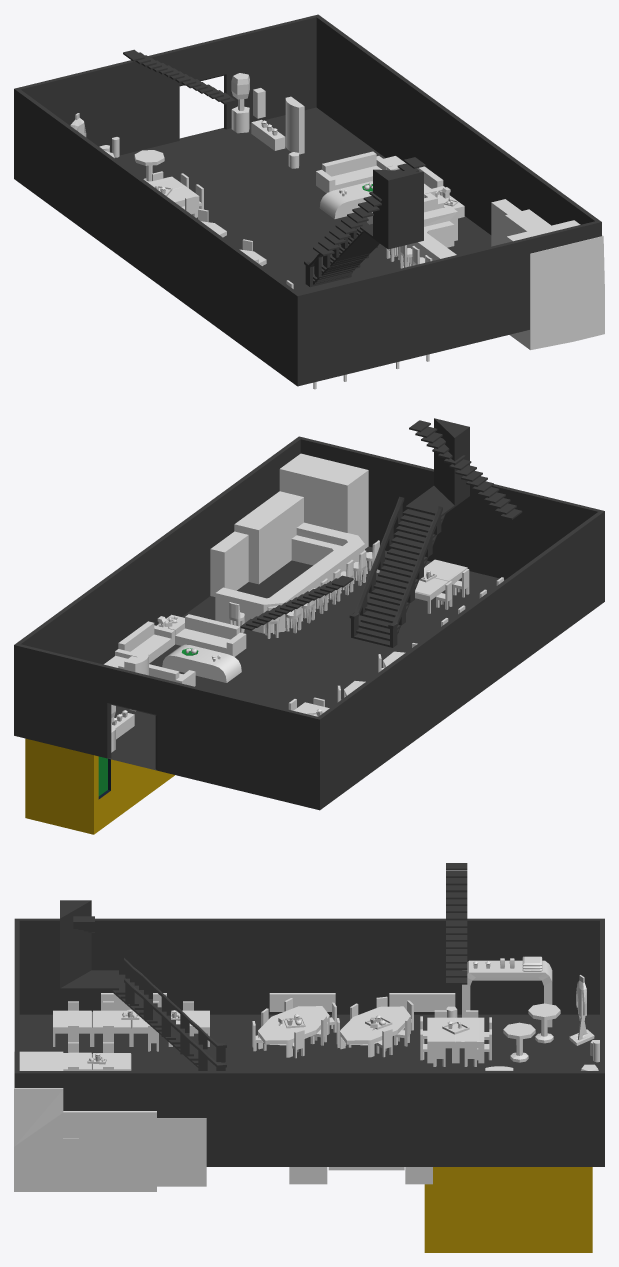
The model's file is de bar.FBX.
3 renders of one model, top to bottom at view 1: azimuth 30°, elevation 25°; view 2: azimuth 150°, elevation 25°; view 3: azimuth 270°, elevation 25°, orthographic. The views are drawn at different scales.
Visible parts, largest first — view 1: Floor2.1, Box038, Object002, Stairs 2.001, Stair, Box031, Box037, Box039, Box005, Gebouw001, Object032, Box009 (+2 smaller); view 2: Floor2.1, Box038, Box006, Stair, Box037, Stairs 2.001, Object002, Box033, Box039, Box032, Box034, Box031; view 3: Floor2.1, Box038, Box006, Stair, Object002, Stairs 2.001, Object035, Box008, Cylinder007, Cylinder008, Box009, Cylinder006 (+8 smaller).
Part boxes in pixels (<box>): Floor2.1: <box>14,14,601,386</box>; Box038: <box>491,199,604,350</box>; Object002: <box>360,169,423,249</box>; Stairs 2.001: <box>123,49,425,256</box>; Stair: <box>304,227,379,287</box>; Box031: <box>316,151,392,193</box>; Box037: <box>397,206,457,265</box>; Box039: <box>319,181,372,218</box>; Box005: <box>285,96,304,154</box>; Gebouw001: <box>231,73,249,133</box>; Object032: <box>251,88,285,150</box>; Box009: <box>148,176,199,217</box>; Floor2.1: <box>14,436,604,810</box>; Box038: <box>210,453,368,596</box>; Box006: <box>25,738,174,834</box>; Stair: <box>349,496,445,647</box>; Box037: <box>215,522,364,633</box>; Stairs 2.001: <box>240,420,522,630</box>; Object002: <box>405,418,469,516</box>; Box033: <box>169,614,246,656</box>; Box039: <box>162,644,241,682</box>; Box032: <box>115,621,174,663</box>; Box034: <box>415,559,467,613</box>; Box031: <box>118,656,195,686</box>; Floor2.1: <box>14,918,604,1166</box>; Box038: <box>14,1051,206,1191</box>; Box006: <box>424,1167,592,1252</box>; Stair: <box>110,958,226,1070</box>; Object002: <box>60,900,118,990</box>; Stairs 2.001: <box>73,863,467,984</box>; Object035: <box>53,1010,209,1046</box>; Box008: <box>462,960,552,1027</box>; Cylinder007: <box>339,1006,410,1057</box>; Cylinder008: <box>258,1006,329,1057</box>; Box009: <box>427,1017,484,1063</box>; Cylinder006: <box>503,1003,560,1062</box>.
Bounding box in the file's own units: 946 × 733 × 1512.
